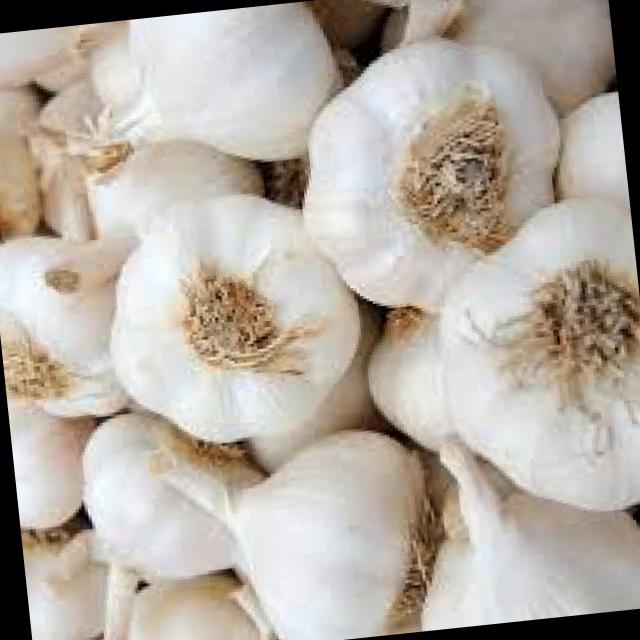Garlic: (79, 135, 375, 453), (417, 147, 640, 538), (277, 21, 561, 328), (86, 0, 355, 207), (213, 397, 439, 640), (404, 419, 640, 630), (62, 389, 268, 617), (0, 172, 146, 438)
